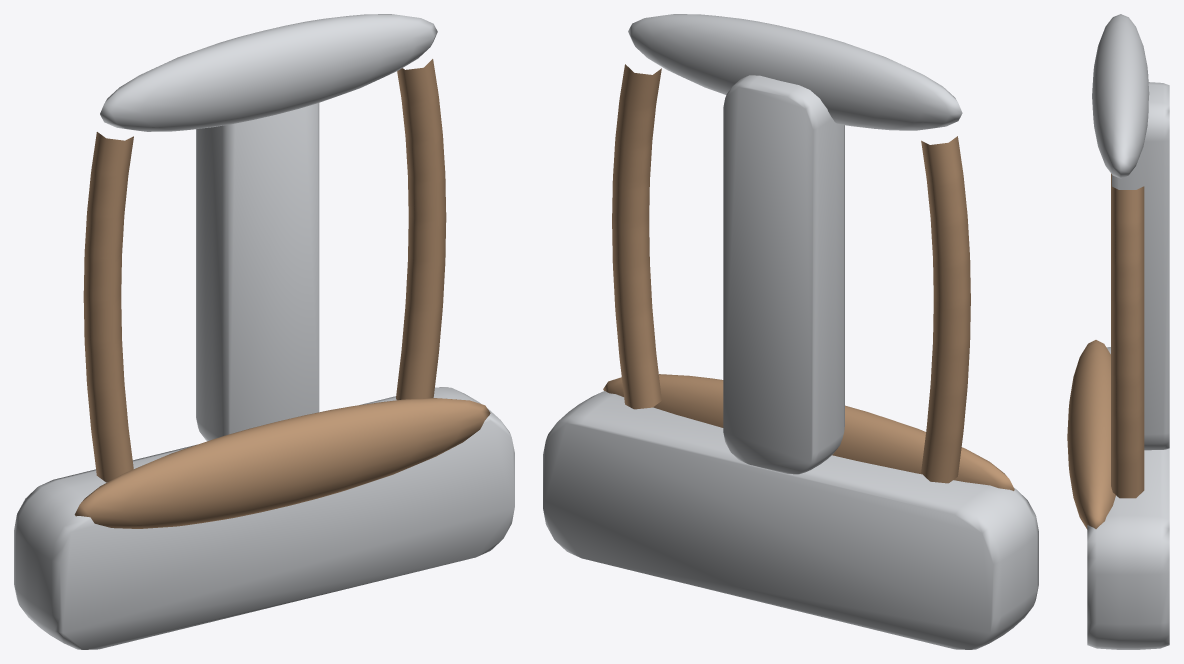
File: decor_6_classic.glb
3 views of the same model, side by side, from view 1: azimuth 30°, elevation 25°; view 2: azimuth 150°, elevation 25°; view 3: azimuth 270°, elevation 25° (orthographic). The views are drawn at different scales.
Parts seen in each view (by area): view 1: decor_6_classic; view 2: decor_6_classic; view 3: decor_6_classic.
Boxes of the visible parts, x1,y1,x2,y2 form: decor_6_classic: (14, 14, 514, 649); decor_6_classic: (543, 14, 1038, 649); decor_6_classic: (1067, 14, 1169, 649).
Bounding box in the file's own units: 7.14 × 8.27 × 1.52.
